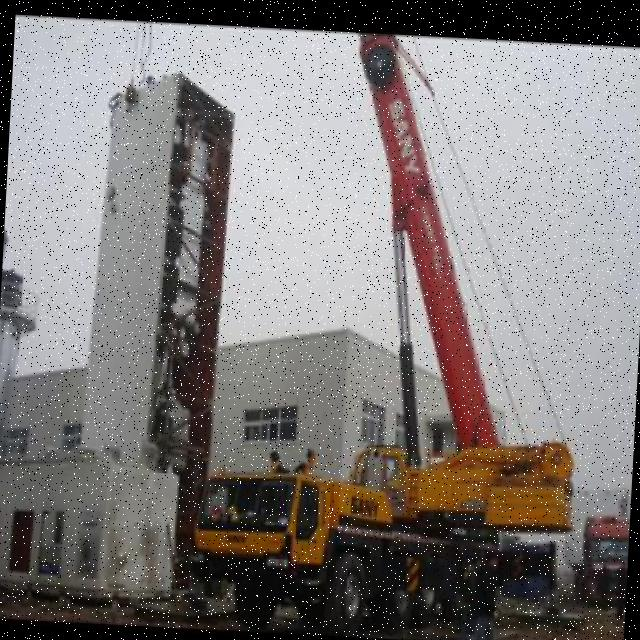Mobile Crane: (184, 25, 596, 640)
